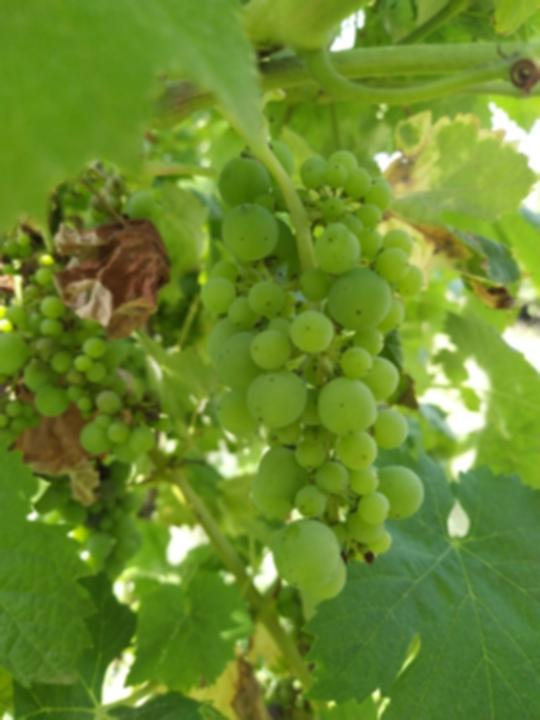grape: (197, 138, 430, 602)
